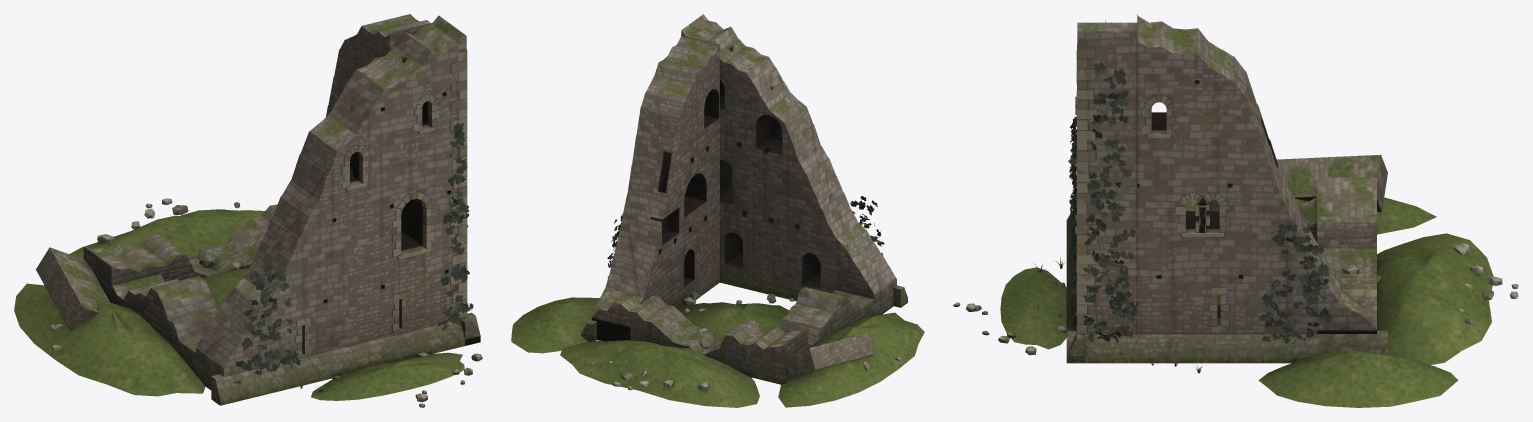
File: ruin_keep.glb
3 views of the same model, side by side, from view 1: azimuth 30°, elevation 25°; view 2: azimuth 150°, elevation 25°; view 3: azimuth 270°, elevation 25° (orthographic). The views are drawn at different scales.
Parts seen in each view (by area): view 1: ruin_keep_LOD0, ruin_keep_ivy_LOD0; view 2: ruin_keep_LOD0, ruin_keep_ivy_LOD0; view 3: ruin_keep_LOD0, ruin_keep_ivy_LOD0.
Part boxes in pixels (bbox=[...]): ruin_keep_LOD0: bbox=[14, 14, 482, 407]; ruin_keep_ivy_LOD0: bbox=[233, 122, 473, 384]; ruin_keep_LOD0: bbox=[511, 14, 924, 407]; ruin_keep_ivy_LOD0: bbox=[607, 196, 884, 277]; ruin_keep_LOD0: bbox=[953, 14, 1518, 407]; ruin_keep_ivy_LOD0: bbox=[1068, 62, 1332, 350].
Size of what is drawn, in the model's own units: 19.29 by 13.2 by 20.76.
Materials: 2 (2 with a texture image).
